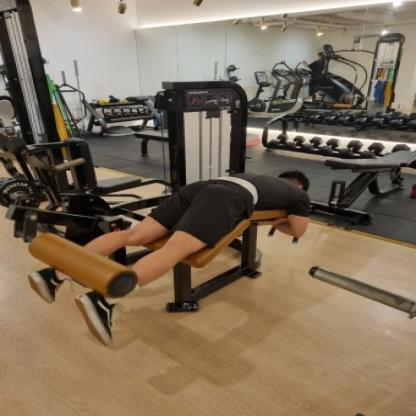reg curl machine: (4, 78, 316, 353)
